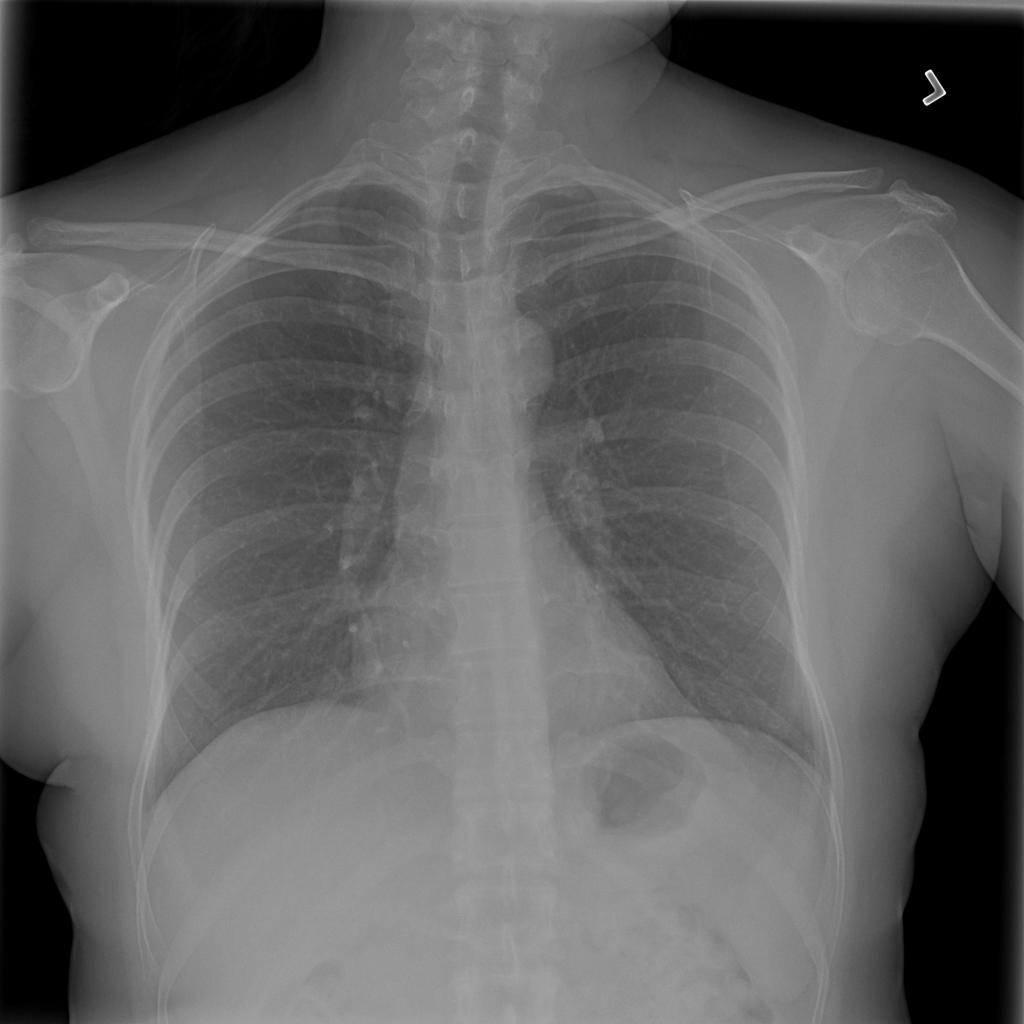nodule: (740, 399, 776, 436)
